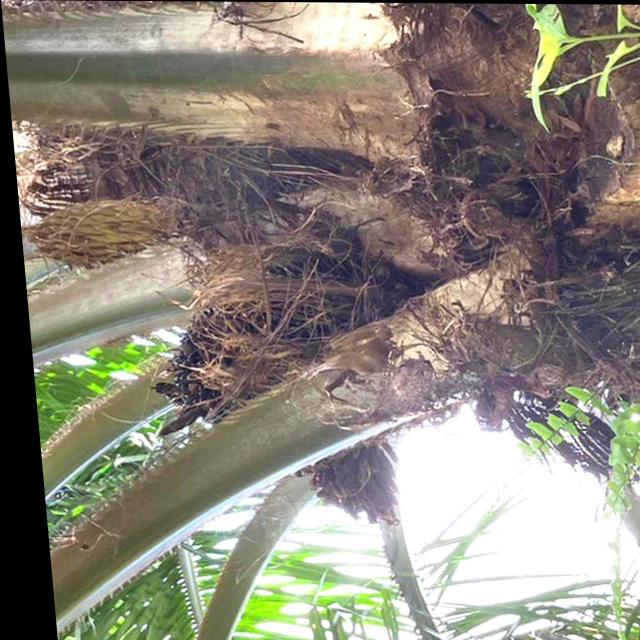unripe: (132, 289, 336, 430)
